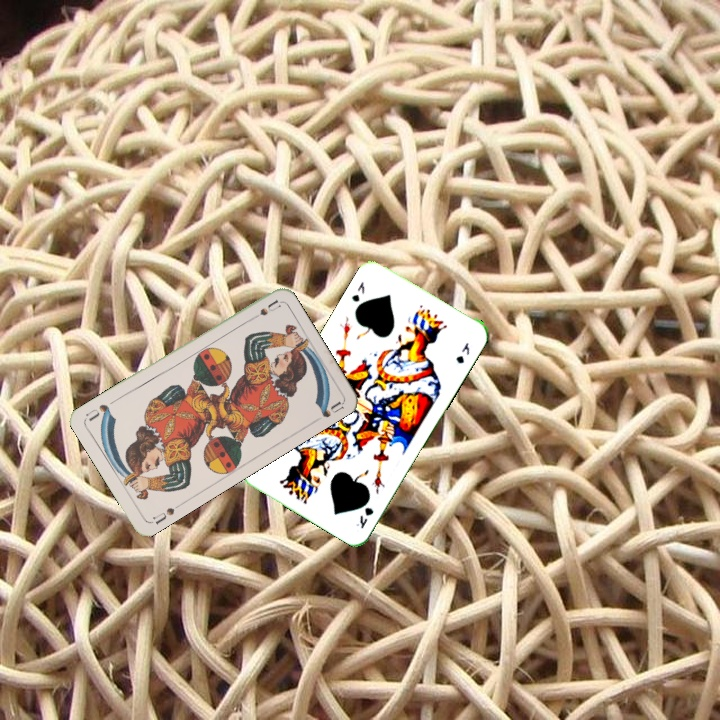GK: (352, 503, 376, 531), (348, 277, 367, 305)
SU: (244, 296, 283, 324), (149, 503, 177, 527)
